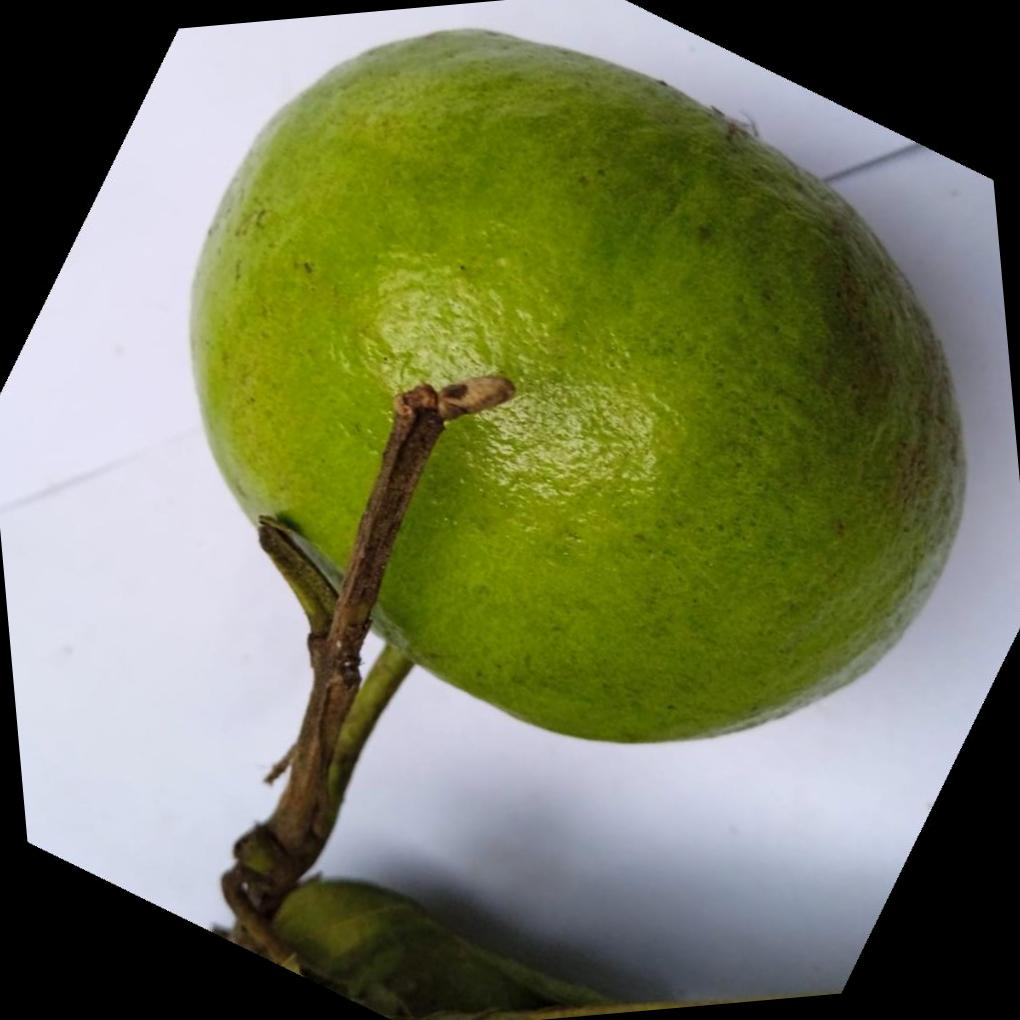FreshGuava: (187, 28, 970, 755)
